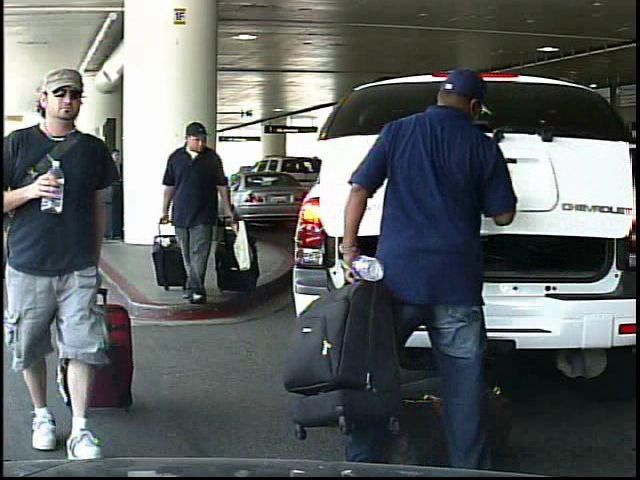person: (339, 74, 529, 475), (4, 70, 152, 468), (157, 116, 251, 306)
